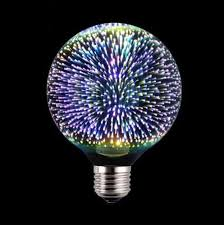bulb: (39, 14, 189, 187)
